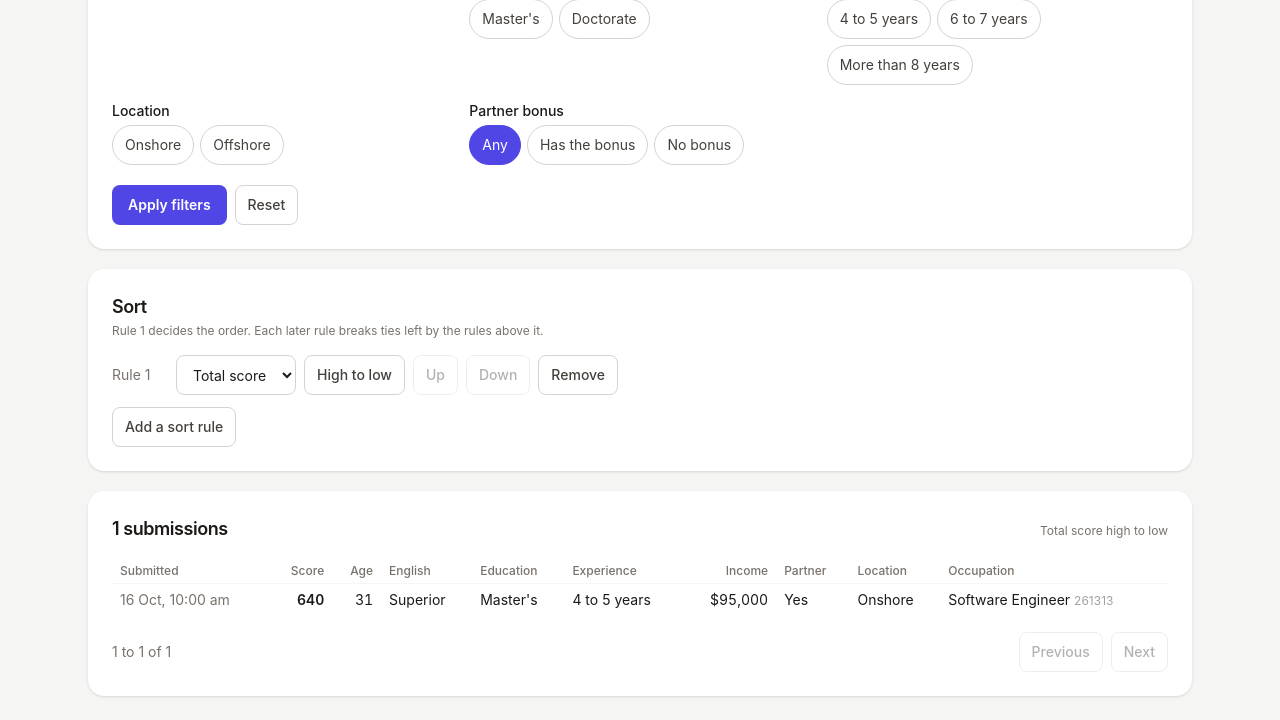
Test case: submissions page › opens a row to show its sections and a link to the public result
(page scrolled)
Click the text "Software Engineer". click: (1054, 600)
box: [940,584,1168,616]
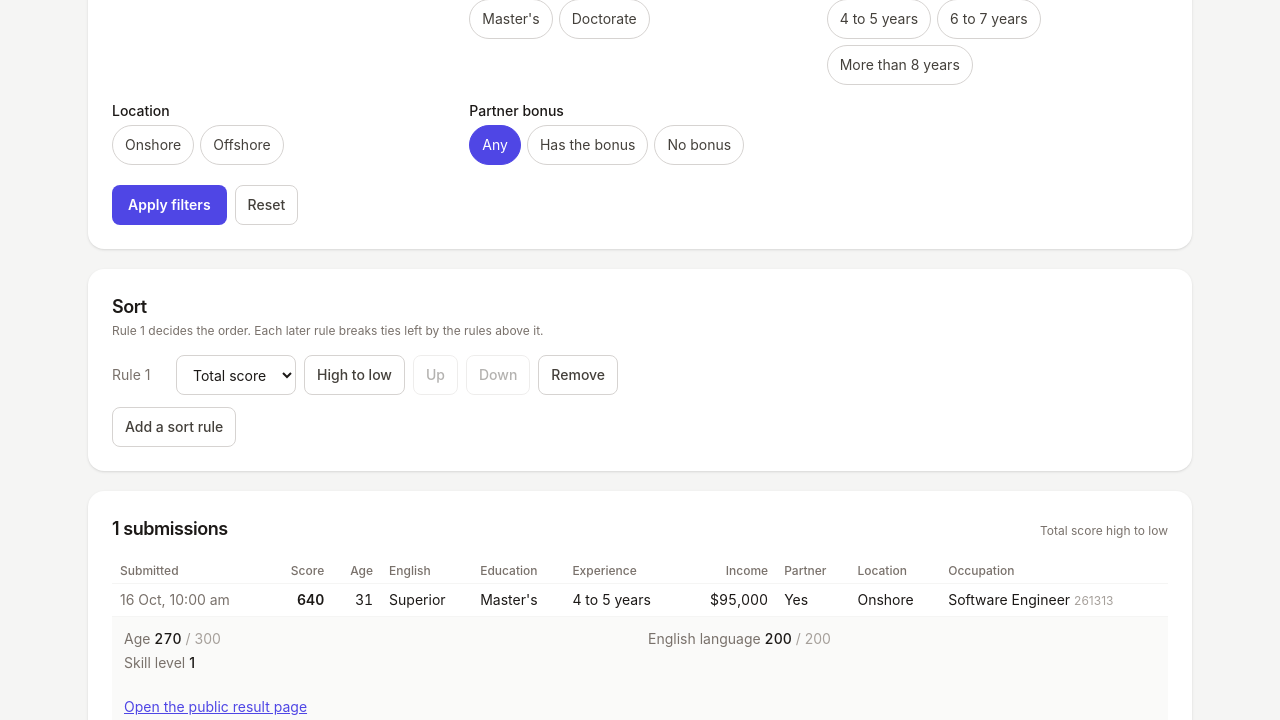
Now the text "Skill level" is shown, box [124,654,185,671]
